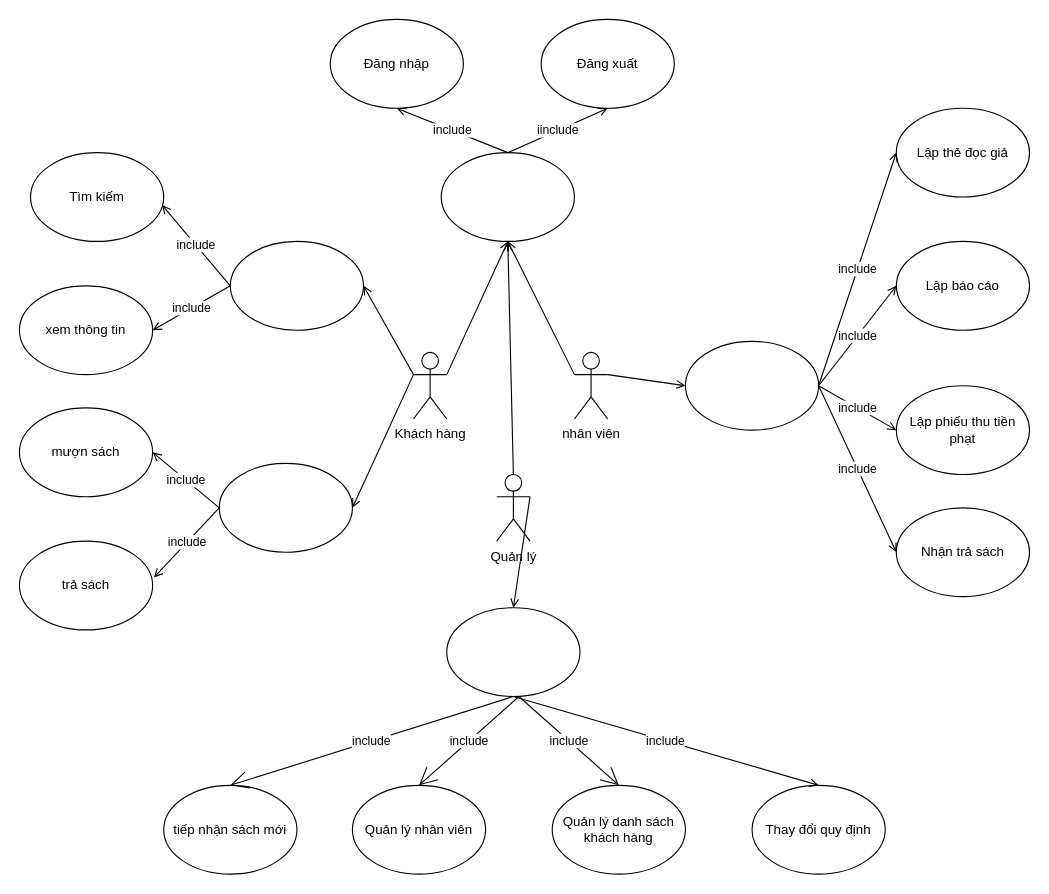
The diagram is 1049 pixels wide and 894 high, and some of its shapes have lost their labels. Each missing label, with the centre of its shape:
"Hành động" belongs at point 285,507.
"Quản lý sách" belongs at point 751,385.
"Quản lý thư viện" belongs at point 513,652.
"tài khoản" belongs at point 507,196.
"Xem sách" belongs at point 296,285.
